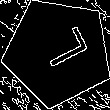L_SW: (28, 27, 88, 77)
